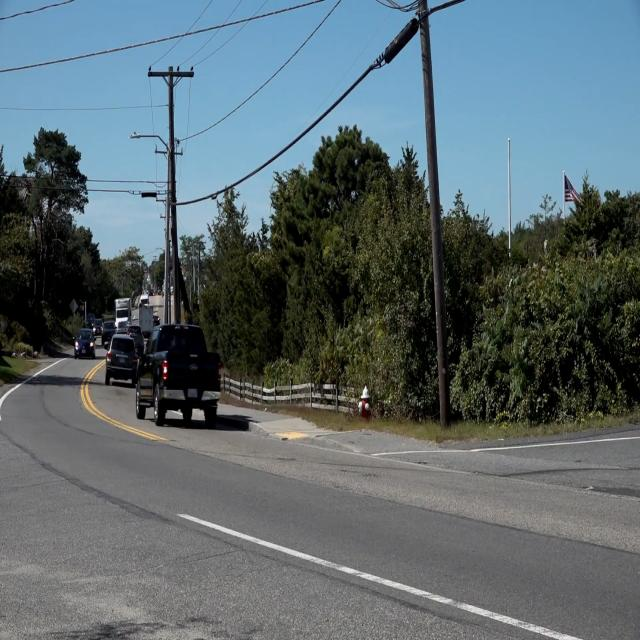sedans: (74, 324, 94, 356)
suv: (106, 329, 136, 388)
truck: (134, 322, 225, 430)
